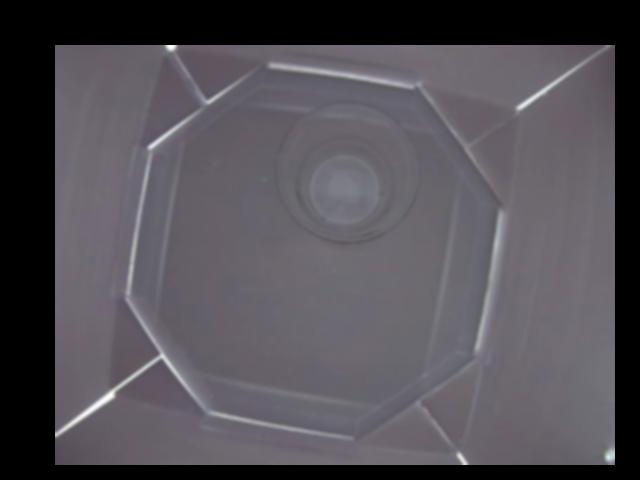Cup: (273, 101, 420, 247)
